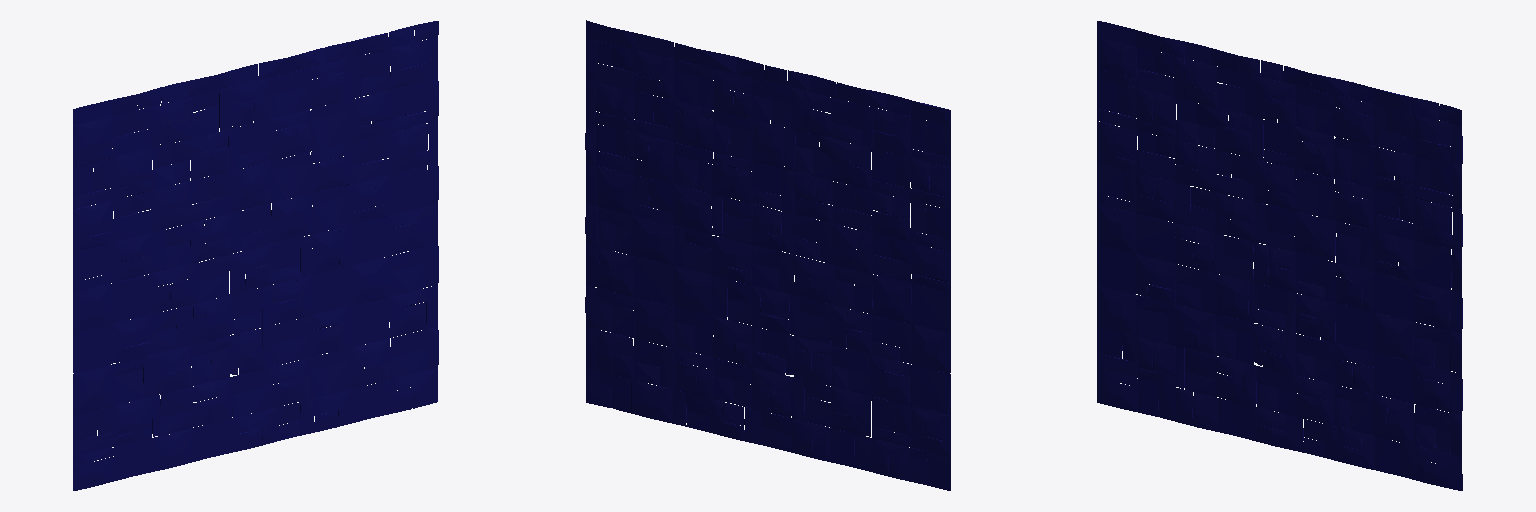
URDF robot description (ground_skeleton):
<?xml version="1.0"?>
<robot name="ground_skeleton">
    <link name="world" />
    <link name="ground_link">
        <inertial>
            <mass value="1.0" />
            <origin xyz="0 0 0" rpy="-1.5708 0 0" />
            <inertia ixx="1.0" ixy="0" ixz="0" iyy="1.0" iyz="0" izz="1.0" />
        </inertial>
        <visual>
            <origin xyz="0 0 0" rpy="-1.5708 0 0" />
            <geometry>
                <mesh filename="./terrain_decomp.obj" scale="0.3 0.3 0.3"/>
            </geometry>
			<material name="navy">
				<color rgba="0.1 0.1 0.4 0.9"/>
			</material>
        </visual>
        <collision>
            <origin xyz="0 0 0" rpy="-1.5708 0 0" />
            <geometry>
                <mesh filename="./terrain_decomp.obj" scale="0.3 0.3 0.3"/>
            </geometry>
        </collision>
    </link>
    <joint name="ground_joint" type="fixed">
        <origin xyz="0 0 0" rpy="0 0 0" />
        <parent link="world" />
        <child link="ground_link" />
    </joint>
</robot>

--- Facts derived from the render (not from the file) ---
3 views of the same robot in one strip: view 1: azimuth 30°, elevation 25°; view 2: azimuth 150°, elevation 25°; view 3: azimuth 330°, elevation 25° (orthographic).
Model ground_skeleton with 2 links and 1 joints (1 fixed), rooted at world, posed every joint at zero.
Visible links, largest first — view 1: ground_link; view 2: ground_link; view 3: ground_link.
Link boxes in pixels (x1=…): ground_link: x1=73, y1=21, x2=438, y2=490; ground_link: x1=585, y1=20, x2=950, y2=490; ground_link: x1=1097, y1=21, x2=1462, y2=490.
Size in the robot's own frame: 8.7 by 0.061 by 8.7 metres.
Meshes: 1 distinct files referenced, 1 mesh visuals loaded (1 OBJ).